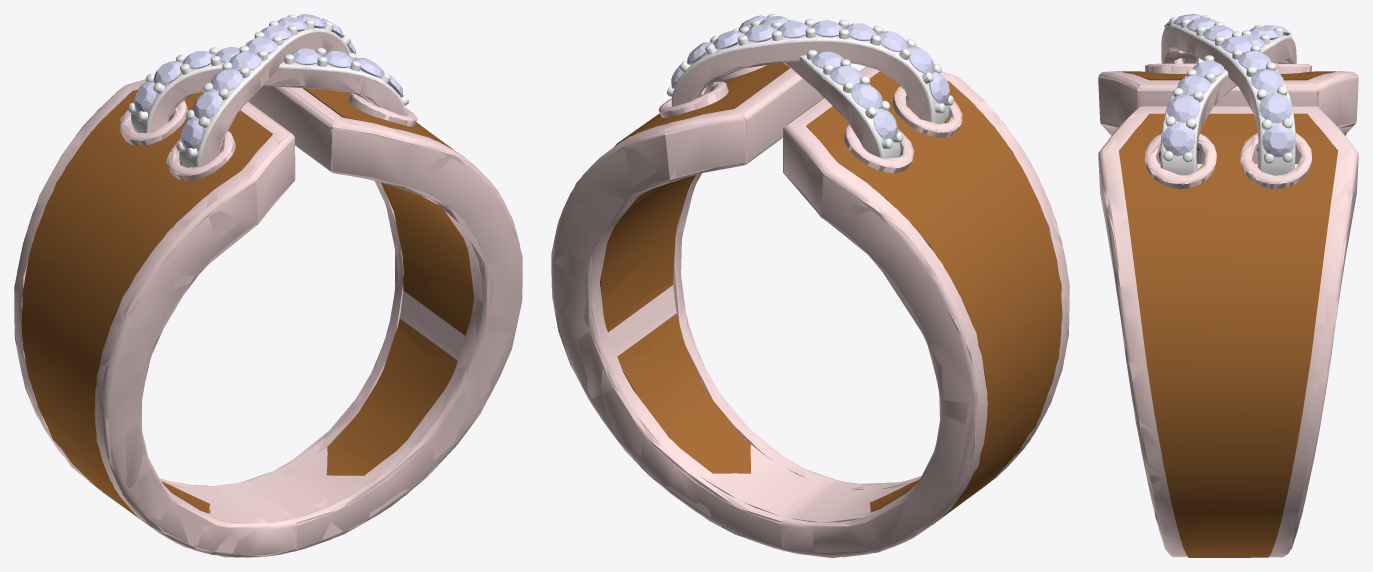
The model's file is DLR-D000677776.glb.
3 renders of one model, left to right at view 1: azimuth 30°, elevation 25°; view 2: azimuth 150°, elevation 25°; view 3: azimuth 270°, elevation 25°, orthographic.
Visible parts, largest first — view 1: highPolyMesh, lowPolyMesh; view 2: highPolyMesh, lowPolyMesh; view 3: highPolyMesh, lowPolyMesh.
Boxes of the visible parts, x1,y1,x2,y2 form: highPolyMesh: [14, 14, 522, 557]; lowPolyMesh: [14, 14, 522, 557]; highPolyMesh: [551, 14, 1069, 557]; lowPolyMesh: [551, 14, 1069, 557]; highPolyMesh: [1098, 14, 1358, 557]; lowPolyMesh: [1098, 14, 1358, 557].
Bounding box in the file's own units: 0.0217 × 0.0246 × 0.0116.
